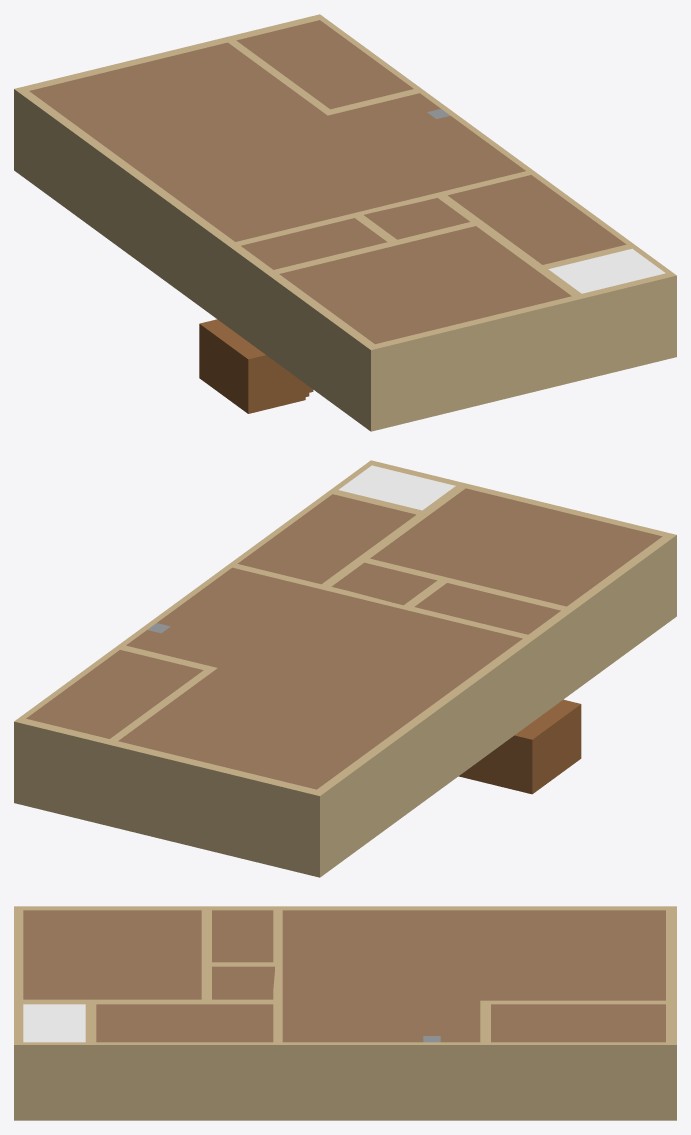
File: HouseInterior.fbx
3 views of the same model, one above another, from view 1: azimuth 30°, elevation 25°; view 2: azimuth 150°, elevation 25°; view 3: azimuth 270°, elevation 25° (orthographic). The views are drawn at different scales.
Parts seen in each view (by area): view 1: Group1; view 2: Group1; view 3: Group1.
Part boxes in pixels (x1=…): Group1: x1=14, y1=14, x2=676, y2=431; Group1: x1=14, y1=460, x2=676, y2=877; Group1: x1=14, y1=906, x2=676, y2=1120.
Size of the model in its own units: 8870 by 3727 by 17165.
